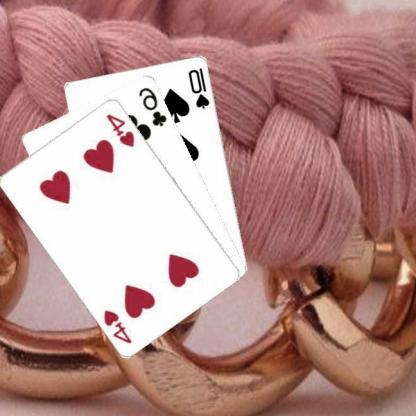10S: (188, 64, 213, 110)
4H: (105, 110, 138, 148), (103, 306, 135, 345)
6C: (138, 84, 170, 127)
